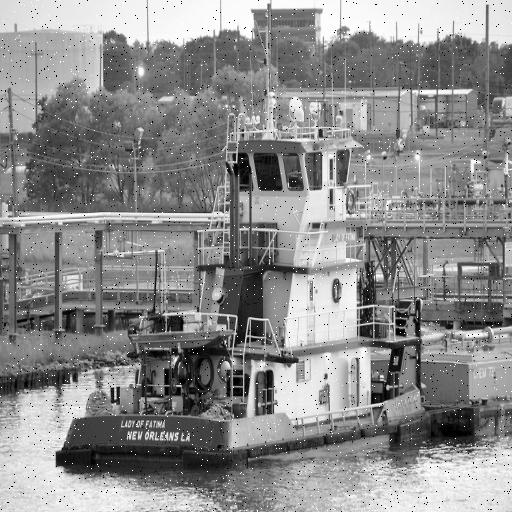tugboat: (48, 89, 437, 478)
